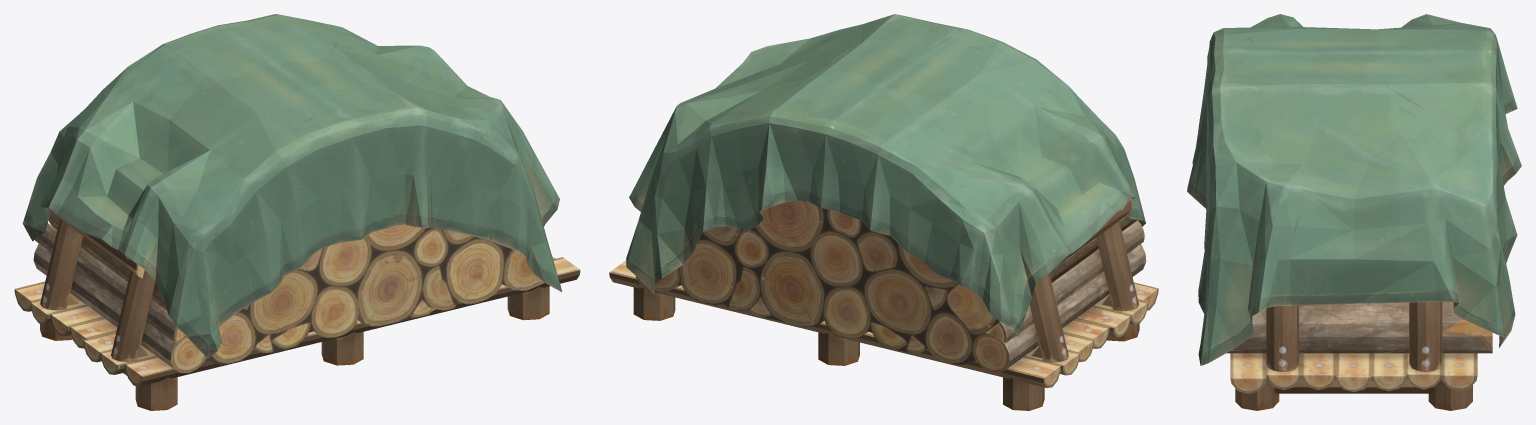
Rendered from P_Woodpile_003_S1_M01.obj.
3 renders of one model, left to right at view 1: azimuth 30°, elevation 25°; view 2: azimuth 150°, elevation 25°; view 3: azimuth 270°, elevation 25°, orthographic.
Size of the model in its own units: 3 by 1.62 by 1.93.
Materials: 2 (2 with a texture image).
